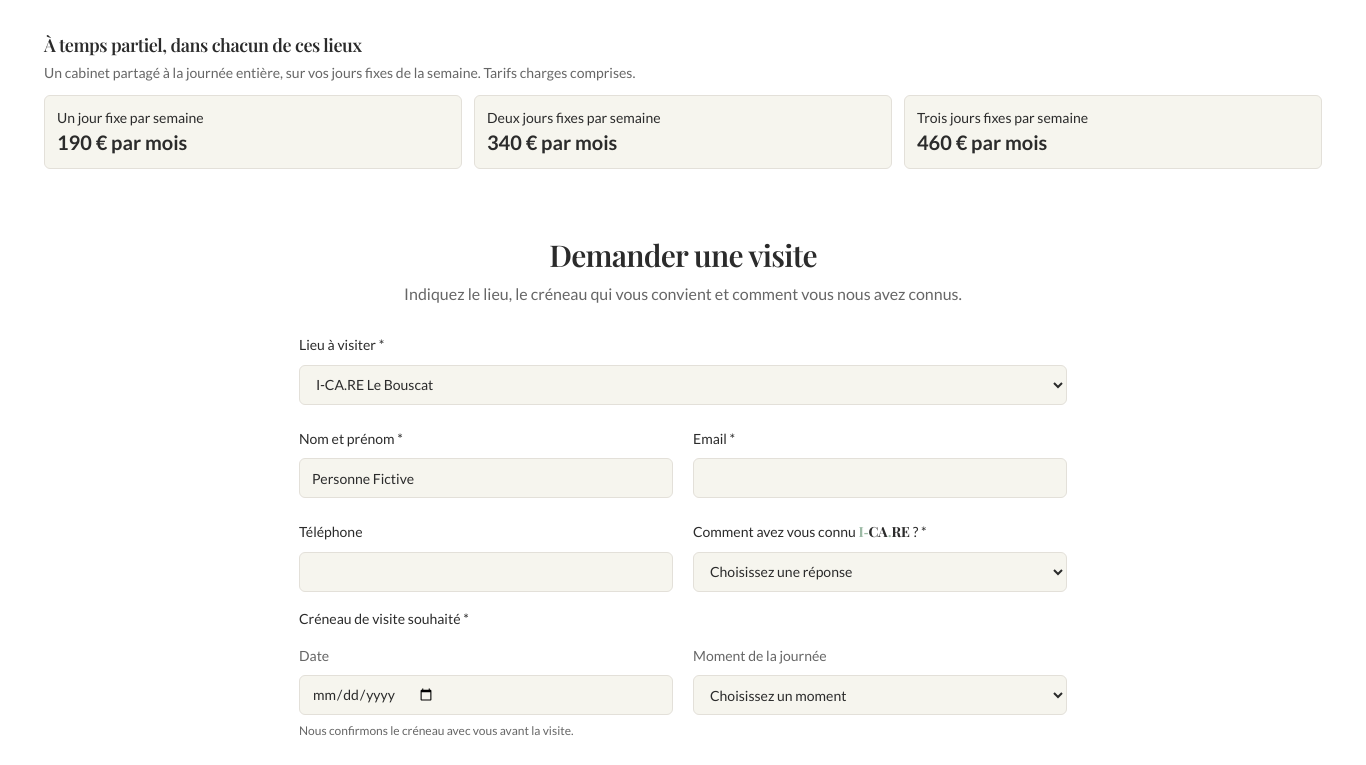
Test: demande de visite › F3 envoi : fonction existante, source et creneau dans extra_data et dans le message
Earlier steps of the test are not shown.
(page scrolled)
Type "personne@example.invalid" into the field labelled "Email *".
click(880, 478); type("personne@example.invalid")  # box [693,458,1067,498]
Select "LinkedIn" in the dropdown labelled "Comment avez vous connu I‑CA.RE ? *" at (880, 572), box [693,552,1067,592]
Type "2031-01-15" into the date field labelled "Date".
click(486, 695); type("2031-01-15")  # box [299,675,673,715]
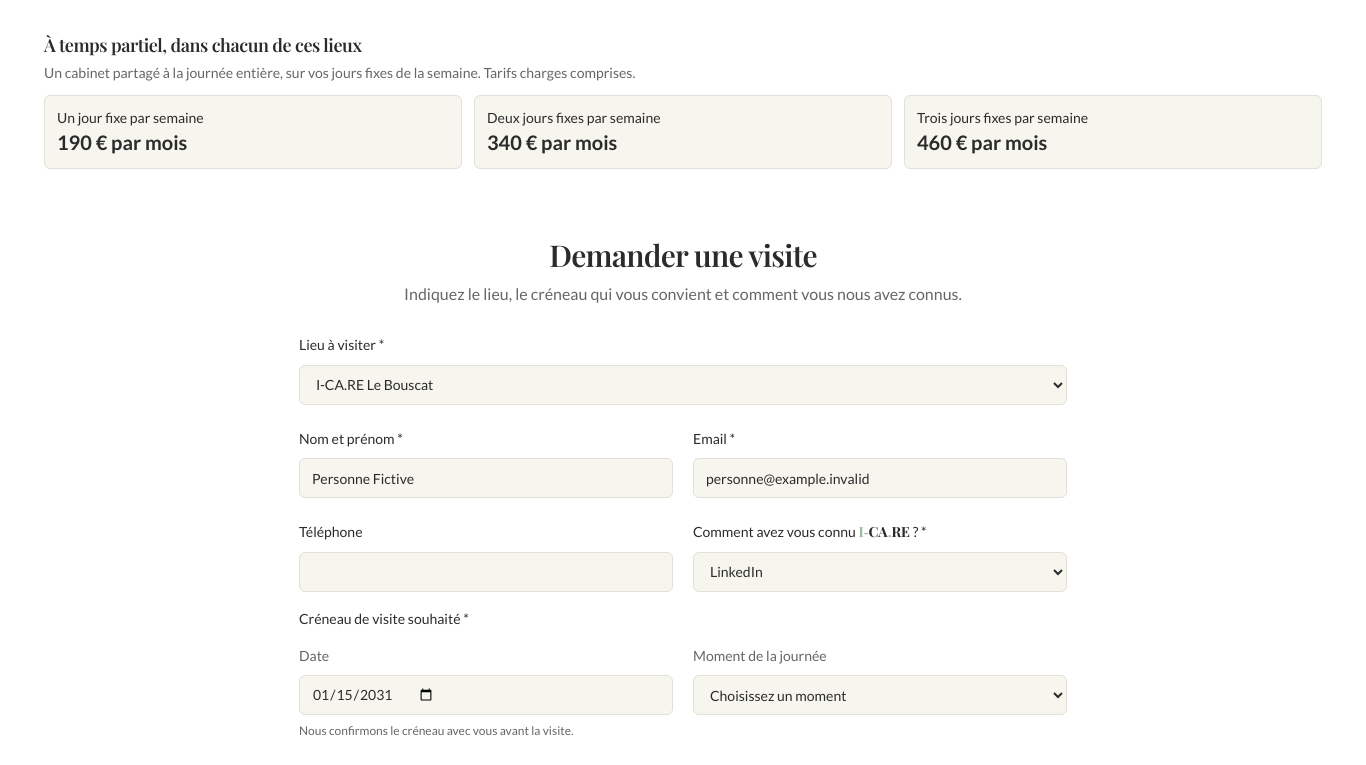
Select "Matin (9 h à 12 h)" in the dropdown labelled "Moment de la journée" at (880, 695), box [693,675,1067,715]
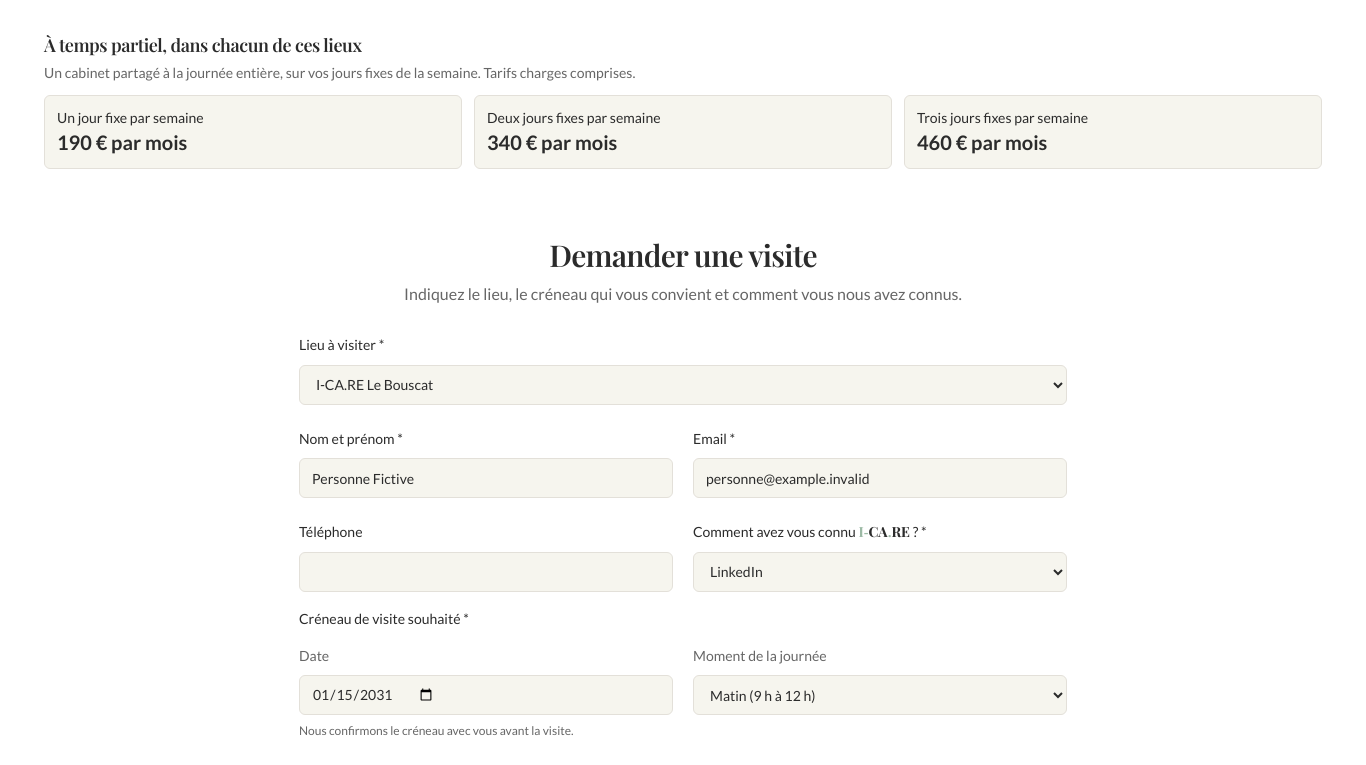
Type "06 00 00 00 00" into the field labelled "Téléphone".
click(486, 572); type("06 00 00 00 00")  # box [299,552,673,592]
(page scrolled)
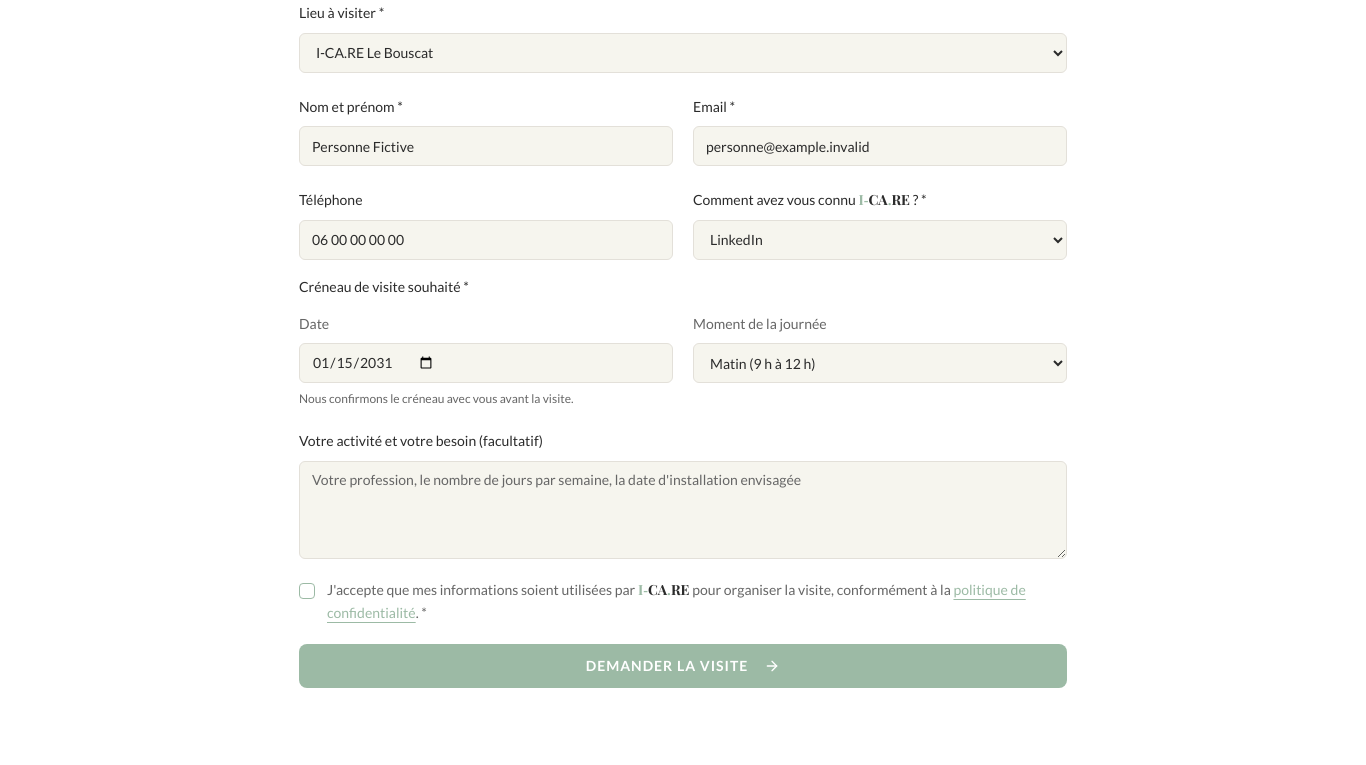
Replace the text in the text box labelled "Votre activité et votre besoin (facultatif)" with "Psychologue, deux jours par semaine." at (683, 510), box [299,461,1067,559]
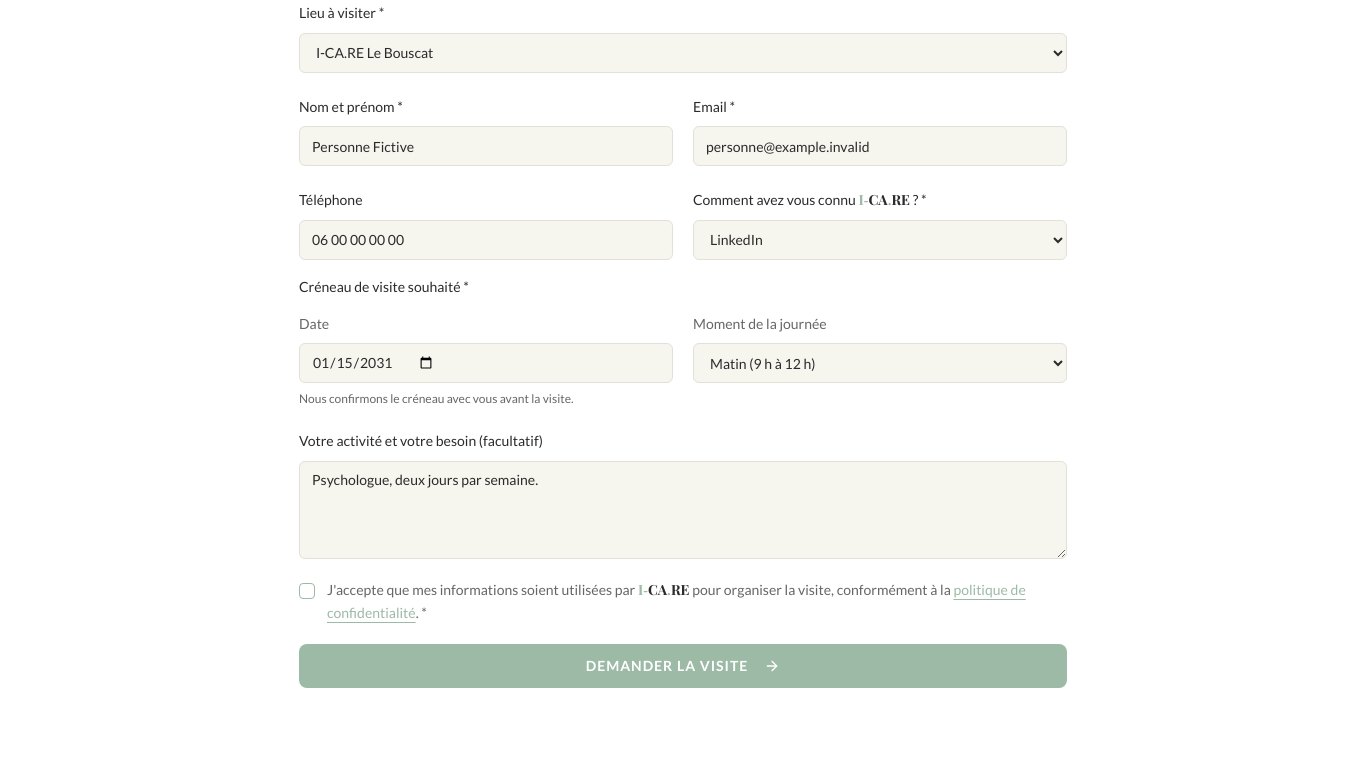
Click the checkbox.
click(307, 591)  # box [299,583,315,599]
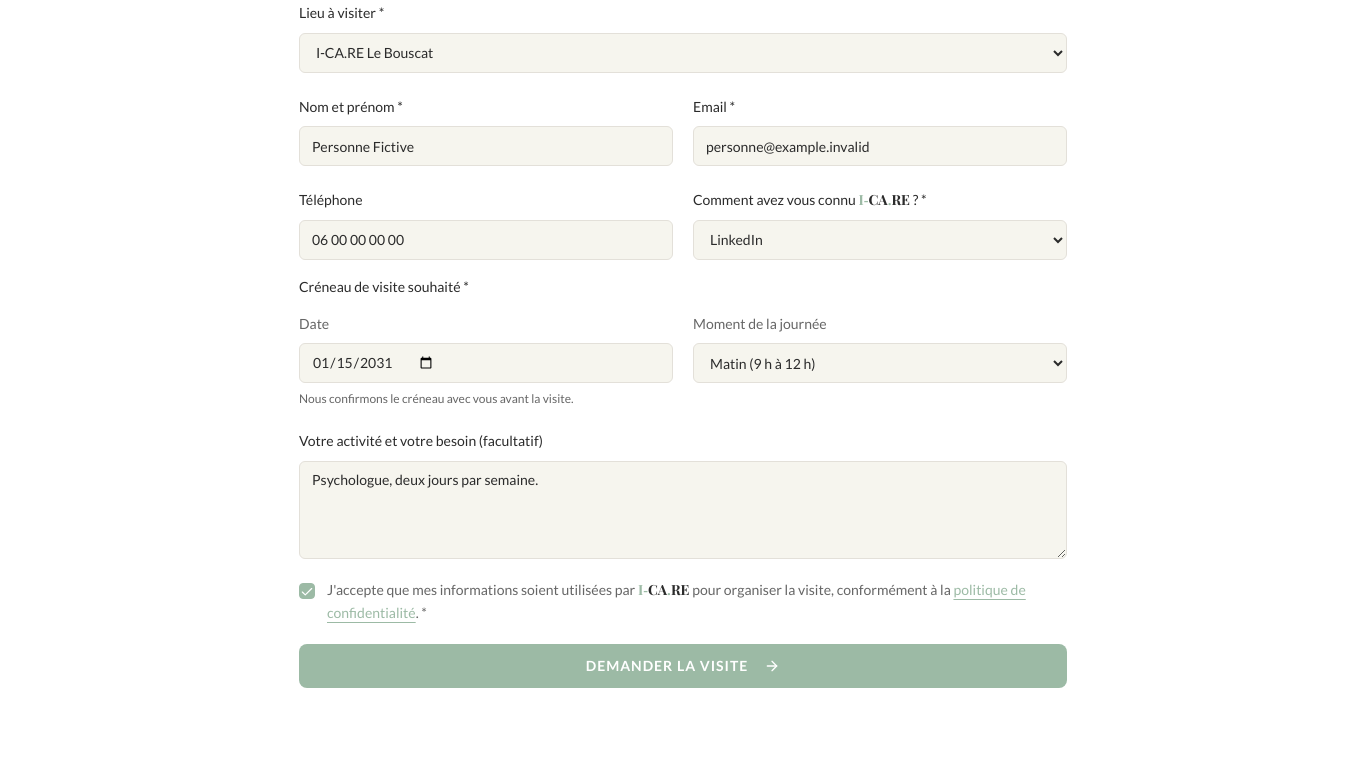
Click the button "Demander la visite".
click(683, 666)  # box [299,644,1067,688]
(page scrolled)
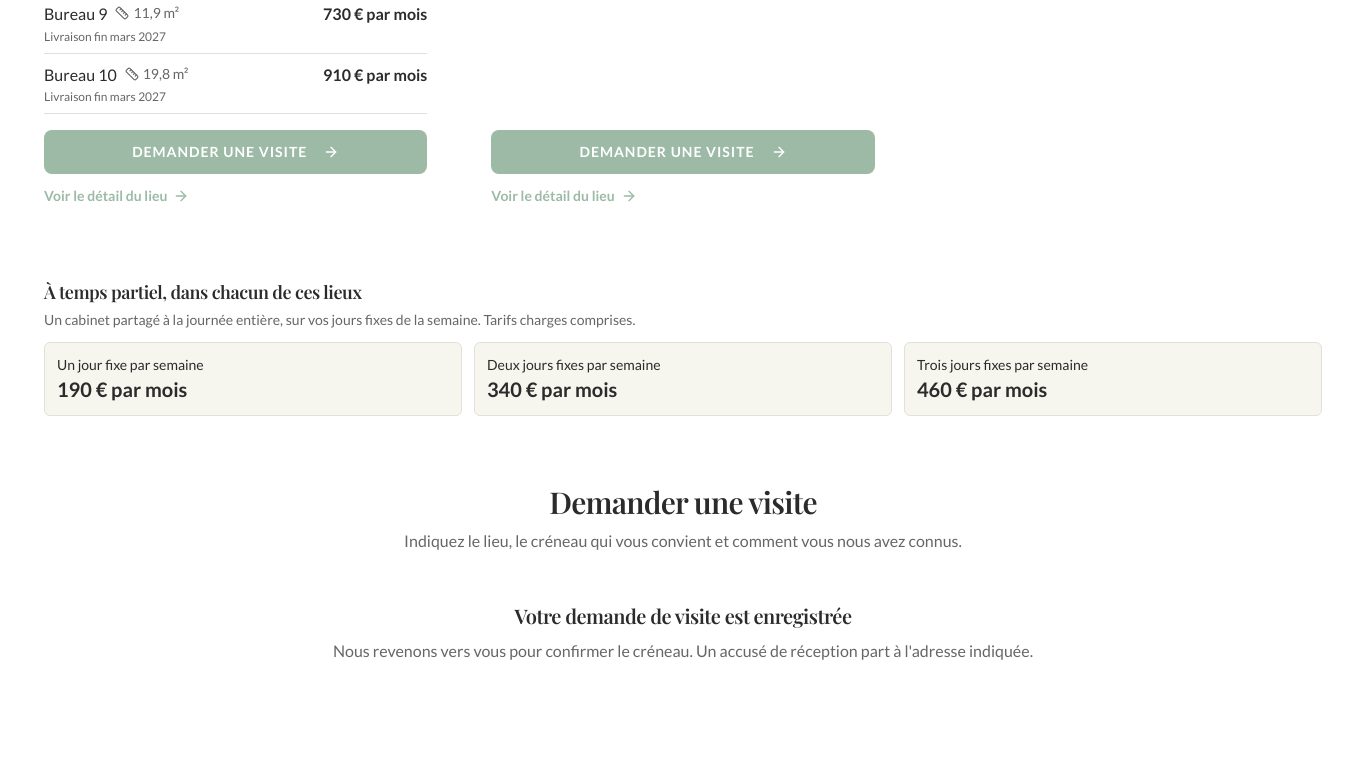
Check: the message is shown, box [299,578,1067,688]
